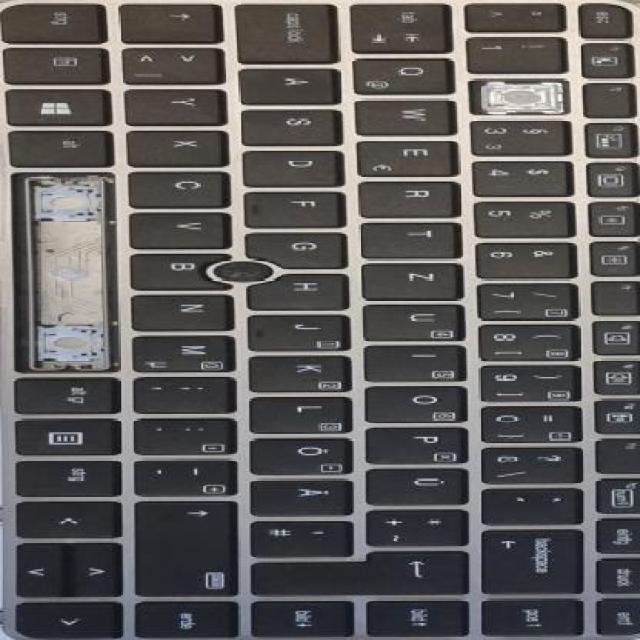Keyboard problems: (15, 175, 112, 369), (475, 80, 568, 112)
